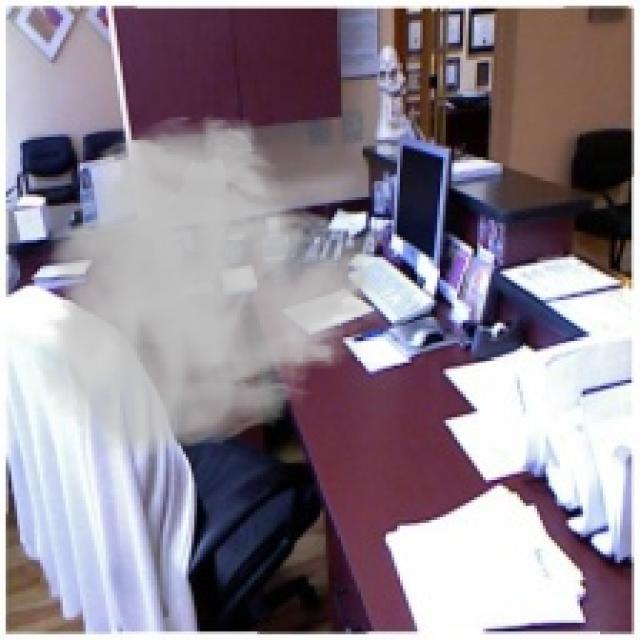smoke: (32, 111, 394, 463)
